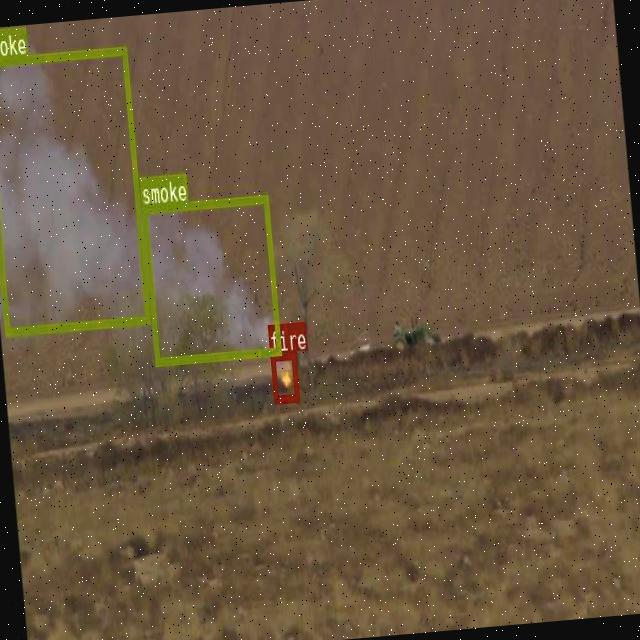fire: (269, 350, 298, 402)
smoke: (0, 46, 149, 335), (142, 194, 280, 364)
